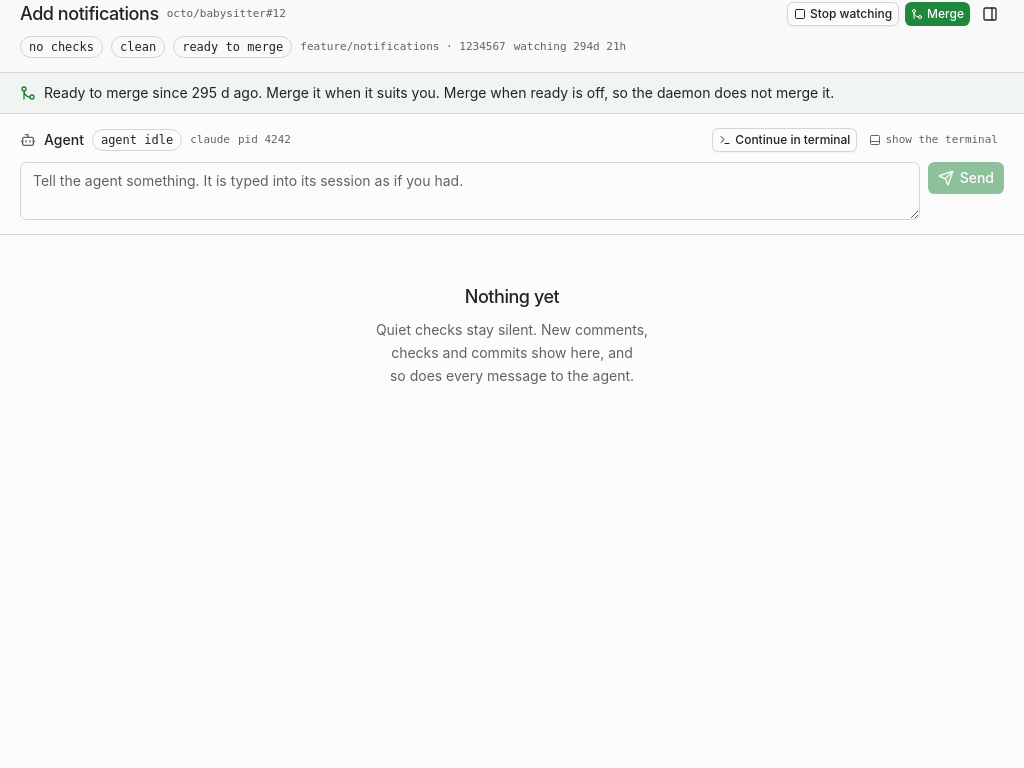
shows why the daemon refused a merge
The image size is (1024, 768).
Step 1. Click the button "Merge" → (938, 14), box [905,2,970,26]
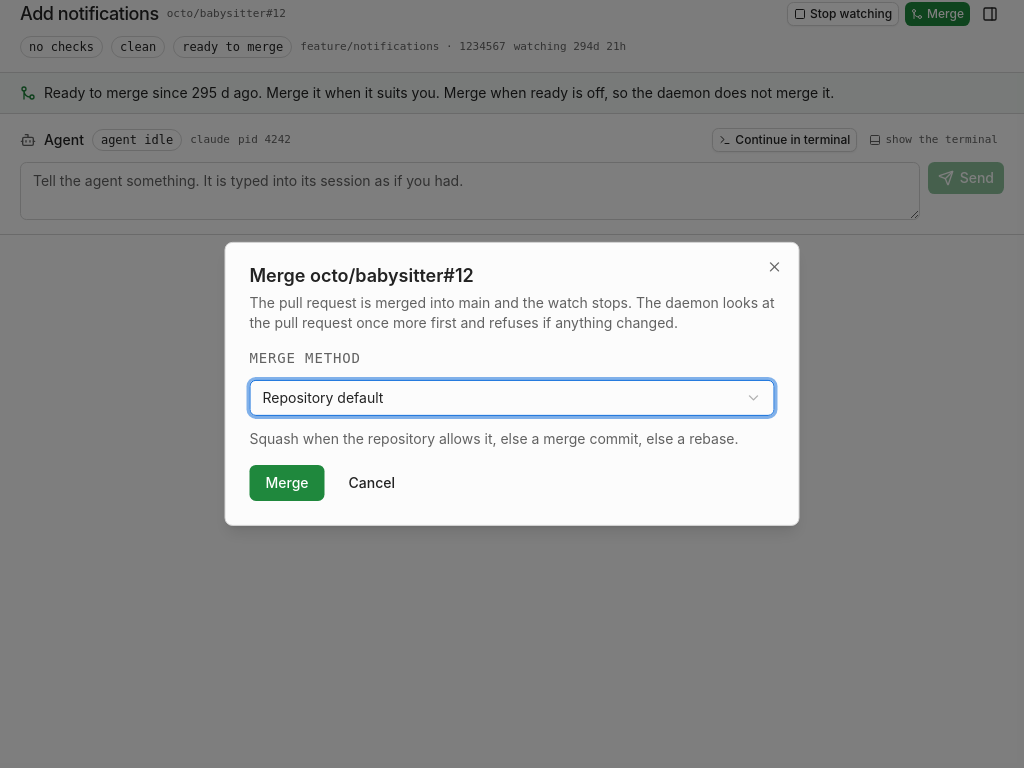
Step 2. Click the button "Merge" → (287, 483), box [250,465,324,501]
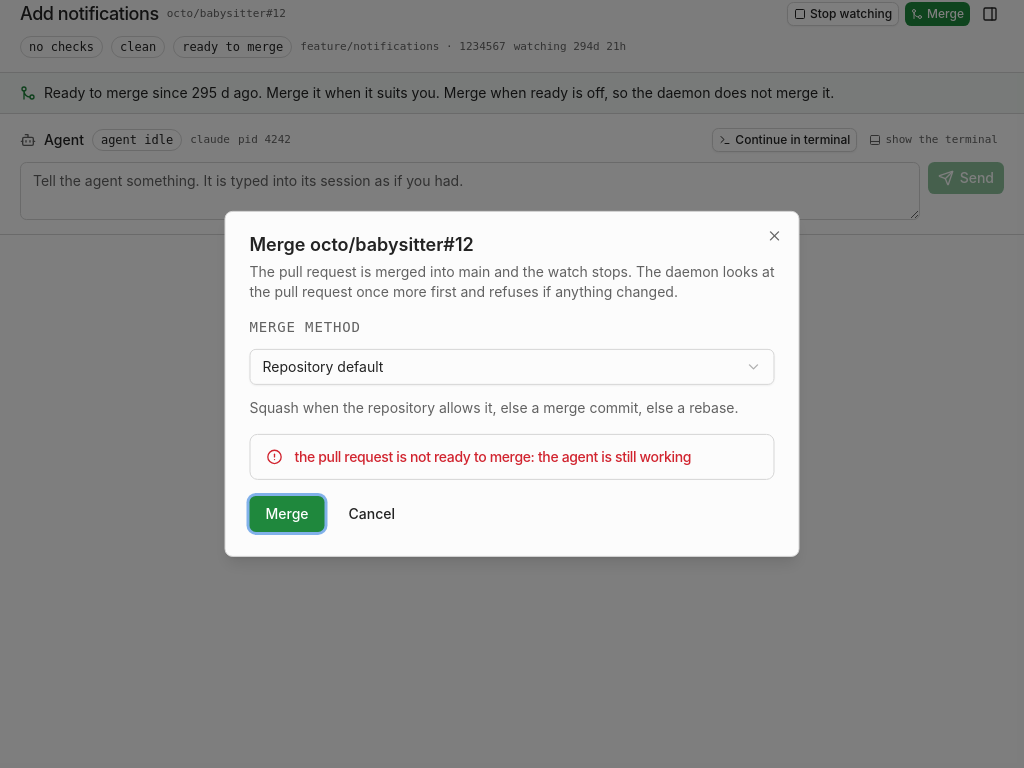
Now the text "the agent is still working" is shown, box [294,448,691,465]
